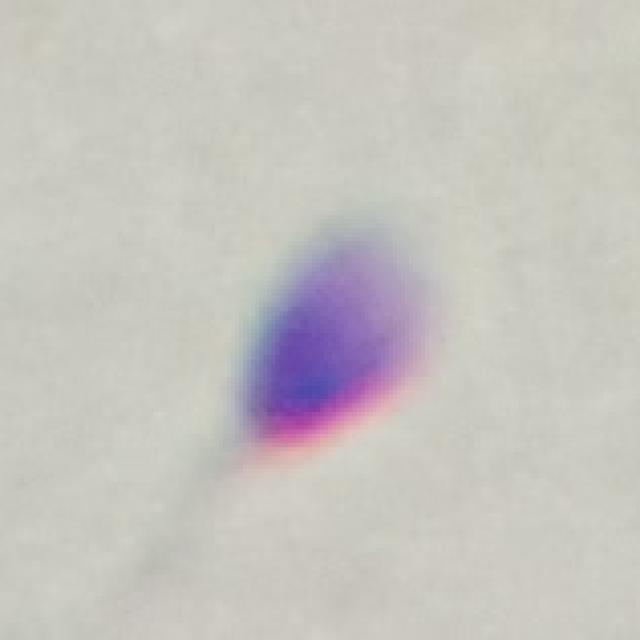normal sperm: (123, 204, 469, 551)
